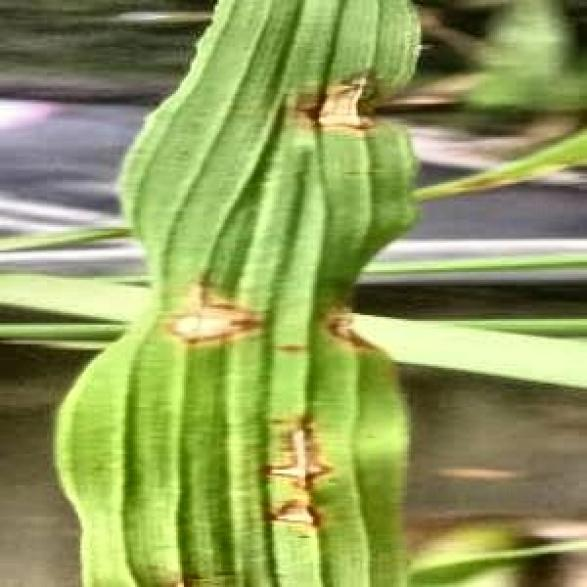Leaf_smut: (125, 270, 370, 528), (268, 70, 434, 141)
